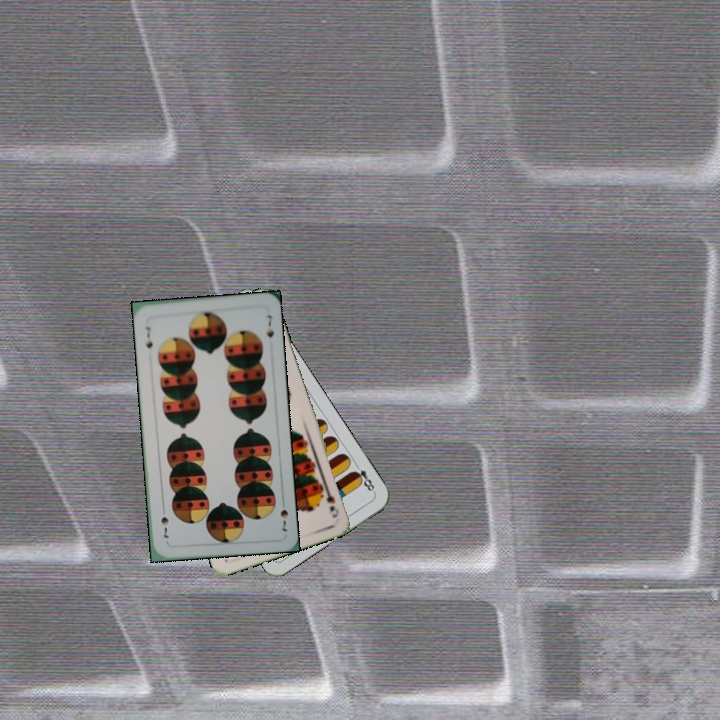E8: (349, 459, 378, 496)
S7: (276, 495, 291, 534), (142, 322, 155, 351)
S9: (317, 481, 338, 514)
